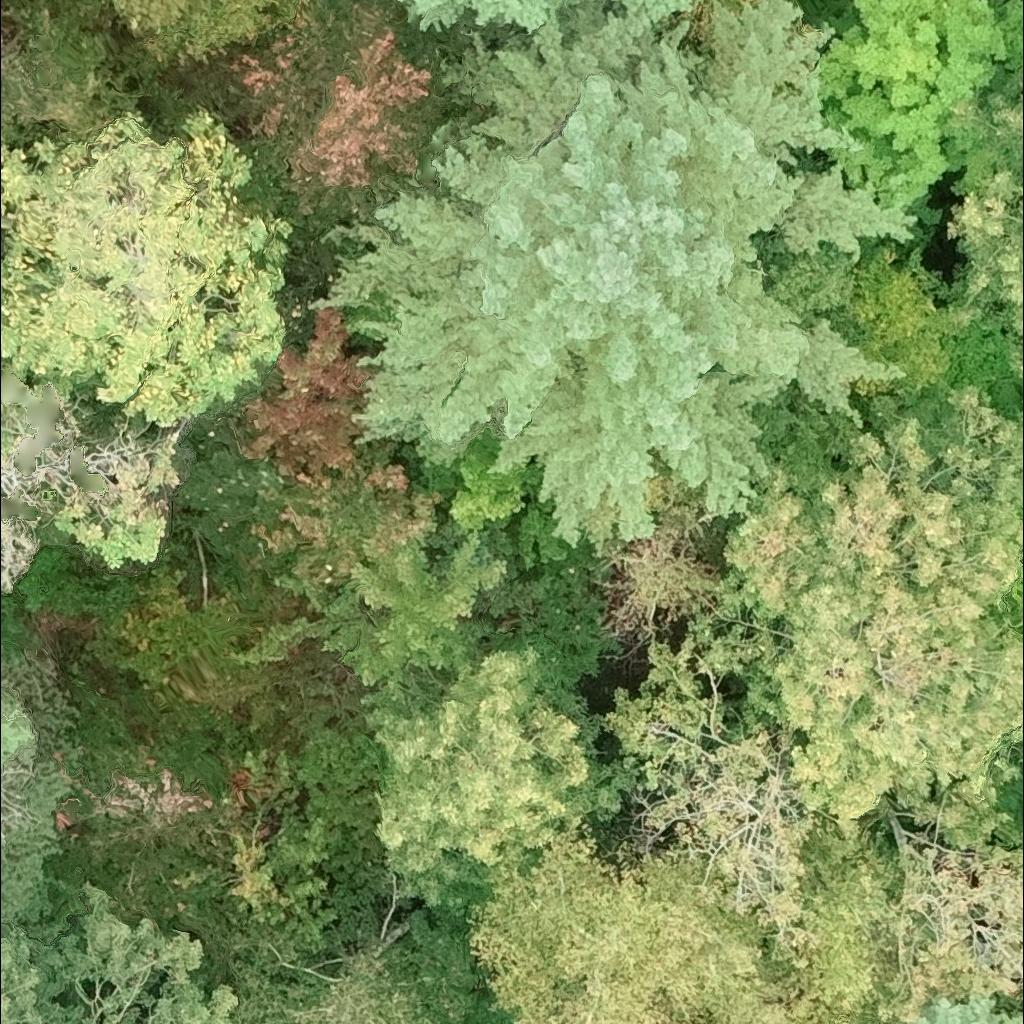crown: (305, 0, 924, 552), (680, 386, 1023, 864), (0, 107, 298, 431), (359, 627, 642, 929), (453, 827, 841, 1023), (192, 0, 465, 268), (601, 632, 821, 956), (809, 0, 1023, 235), (55, 679, 230, 934), (269, 533, 509, 701), (171, 745, 346, 975), (396, 431, 606, 620), (0, 880, 239, 1023), (245, 442, 452, 592), (228, 910, 502, 1023), (873, 817, 1023, 1023), (232, 308, 378, 493), (770, 819, 898, 1023), (941, 85, 1023, 385), (49, 428, 186, 571), (0, 705, 78, 937), (109, 0, 301, 76), (391, 0, 567, 49), (900, 990, 1023, 1023), (595, 0, 704, 35), (0, 407, 39, 467), (999, 0, 1023, 57), (1005, 556, 1023, 626), (1013, 393, 1023, 416), (0, 360, 8, 374), (1023, 1015, 1023, 1016)
